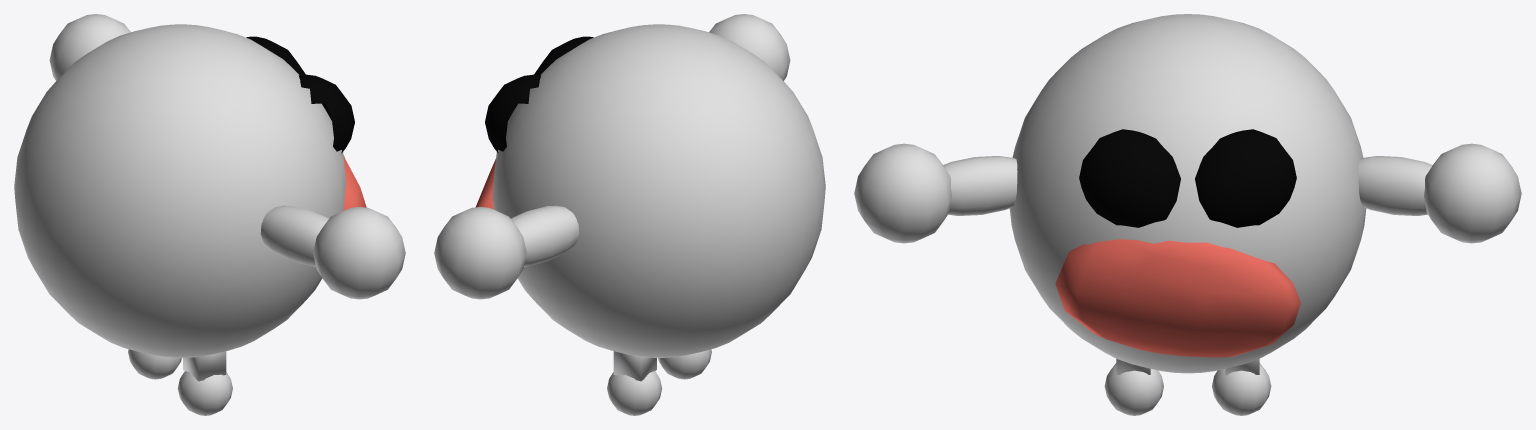
The model's file is character.fbx.
3 renders of one model, left to right at view 1: azimuth 30°, elevation 25°; view 2: azimuth 150°, elevation 25°; view 3: azimuth 270°, elevation 25°, orthographic. The views are drawn at different scales.
Parts seen in each view (by area): view 1: Sphere, hands, foot, arms, eyes, Cube, MOUTH; view 2: Sphere, hands, foot, arms, eyes, Cube, MOUTH; view 3: Sphere, MOUTH, eyes, hands, arms, foot, Cube.
Boxes of the visible parts, x1,y1,x2,y2 form: Sphere: (14,24,346,357); hands: (49,14,405,299); foot: (128,349,232,415); arms: (260,205,329,266); eyes: (246,36,354,153); Cube: (183,351,226,381); MOUTH: (343,155,366,210); Sphere: (492,24,825,357); hands: (434,14,790,299); foot: (607,349,711,415); arms: (510,205,579,266); eyes: (485,36,593,153); Cube: (613,351,656,381); MOUTH: (476,159,495,209); Sphere: (1009,14,1366,373); MOUTH: (1055,239,1300,357); eyes: (1079,129,1296,227); hands: (854,143,1521,243); arms: (943,156,1432,215); foot: (1104,363,1271,415); Cube: (1116,359,1259,374).
Bounding box in the file's own units: 208 × 235 × 371.
